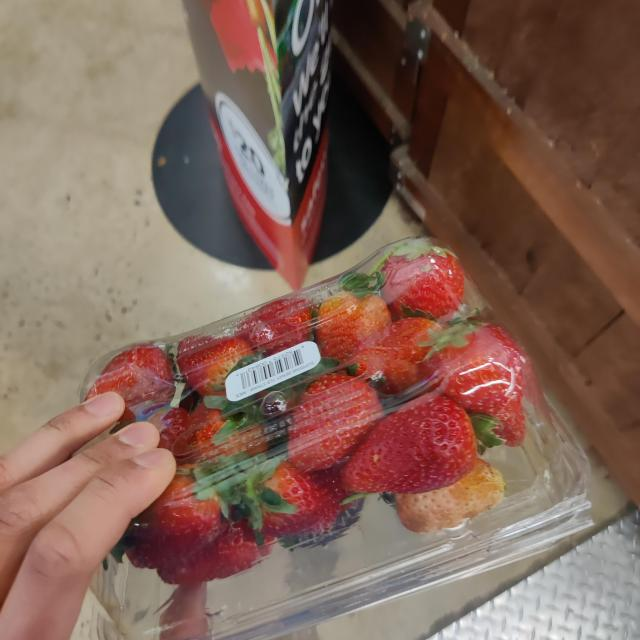Strawberries: (48, 217, 610, 609)
